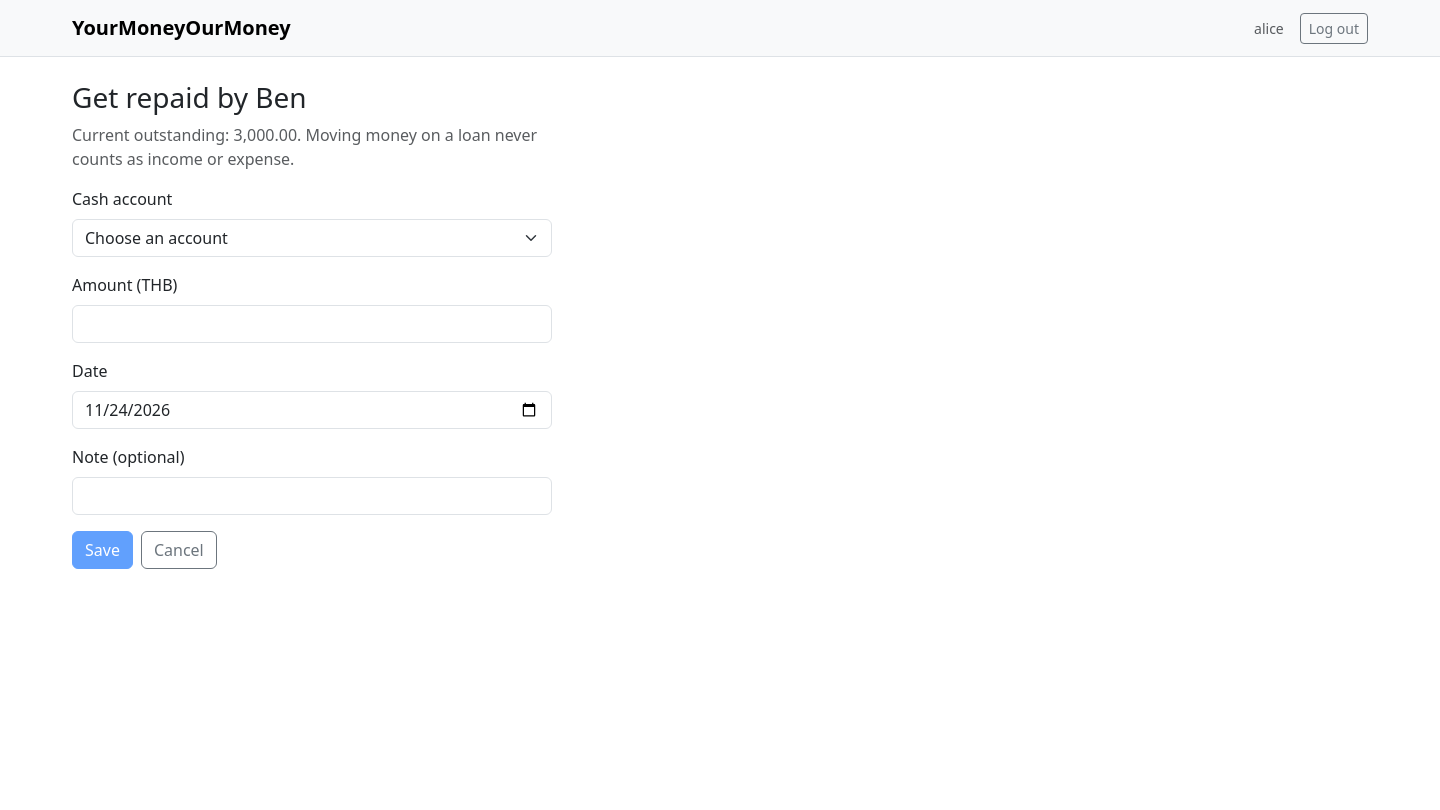
Test: LoanActionPage (T-DEBT-UI-02) › resets over-repayment confirmation if amount changes and preserves form values on server error
Expected: the heading "Get repaid by Ben" is shown, [72,78,306,116]
Step 1. Select "Bank · 38,500.00" in the dropdown labelled "Cash account" → (312,238), box [72,219,552,257]
Step 2. Type "3,500" into the field labelled "Amount (THB)" → (312,324), box [72,305,552,343]
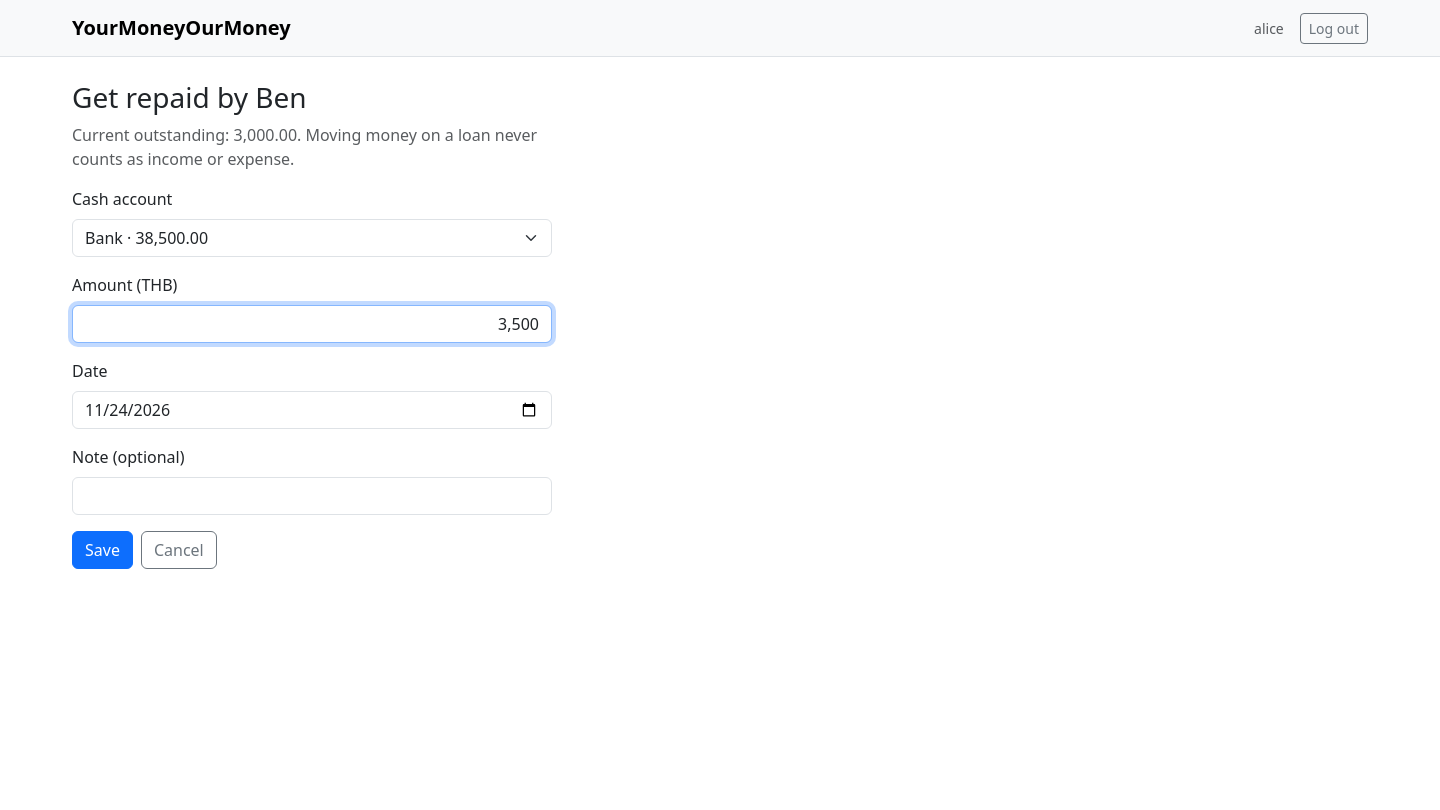
Step 3. Type "Partial" into the field labelled "Note (optional)" → (312,496), box [72,477,552,515]
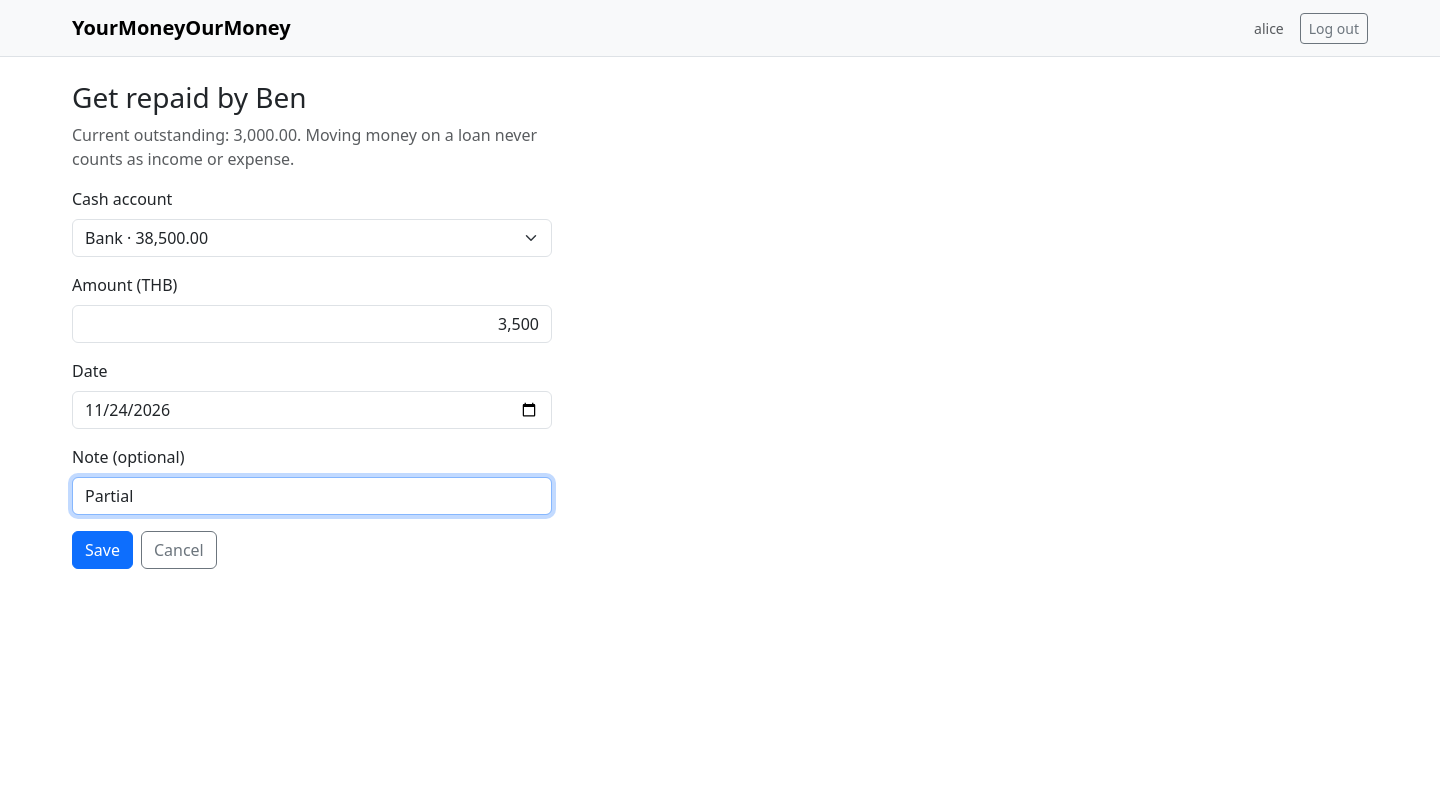
Step 4. Click the button "Save" → (102,550), box [72,531,133,569]
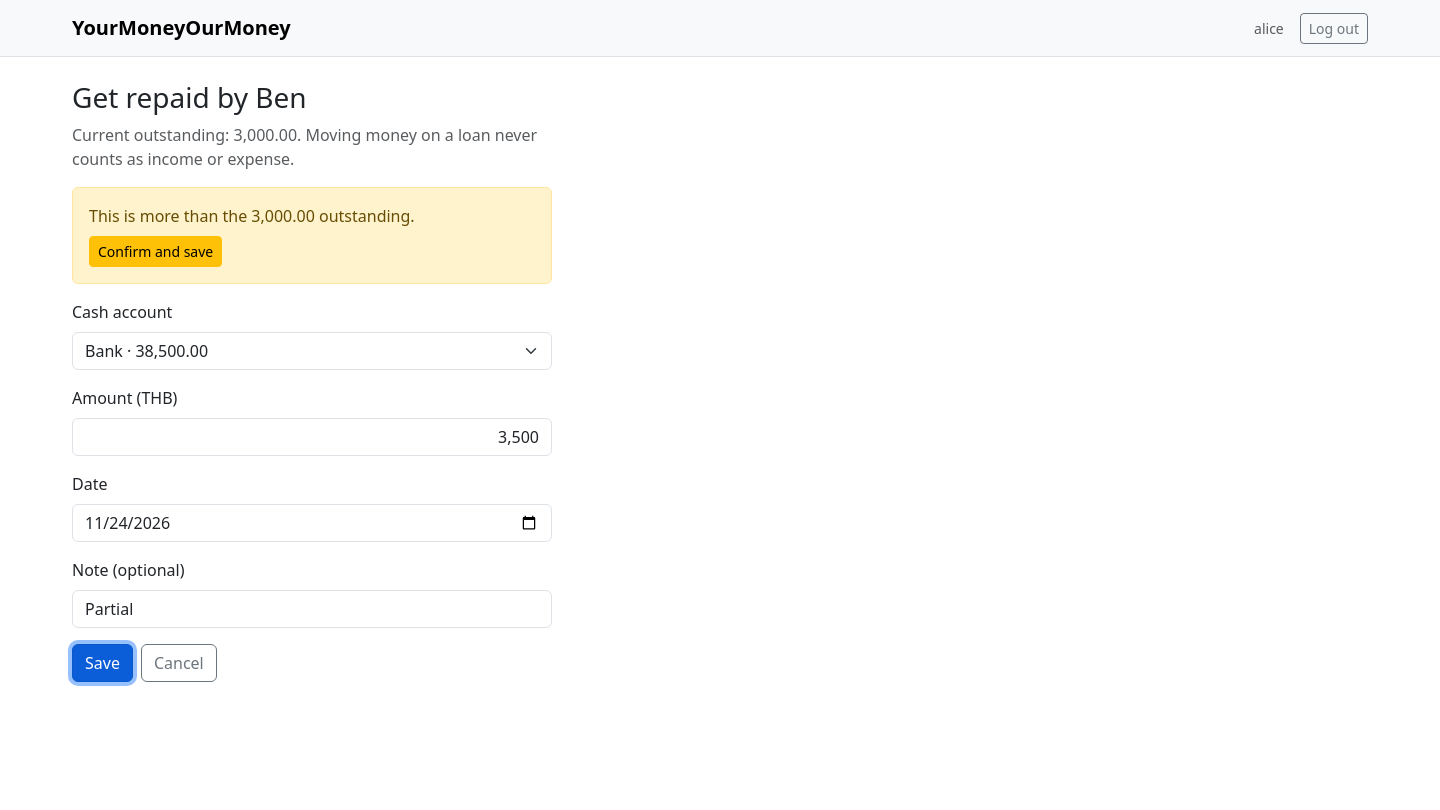
Now the message shows "This is more than the 3,000.00 outstanding.", box [72,187,552,284]
Step 5. Clear the field labelled "Amount (THB)" → (312,437), box [72,418,552,456]
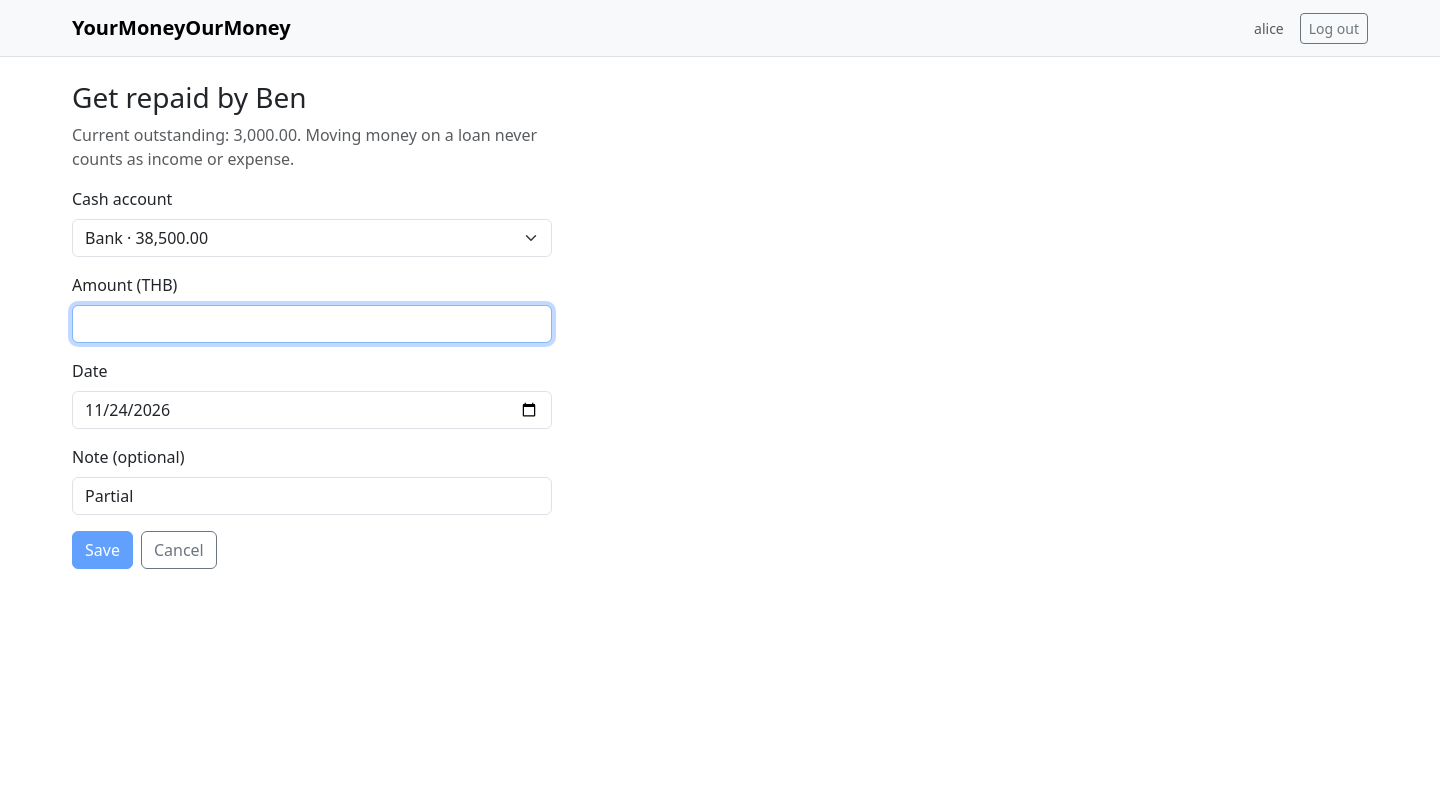
Step 6. Type "2,000" into the field labelled "Amount (THB)" → (312,324), box [72,305,552,343]
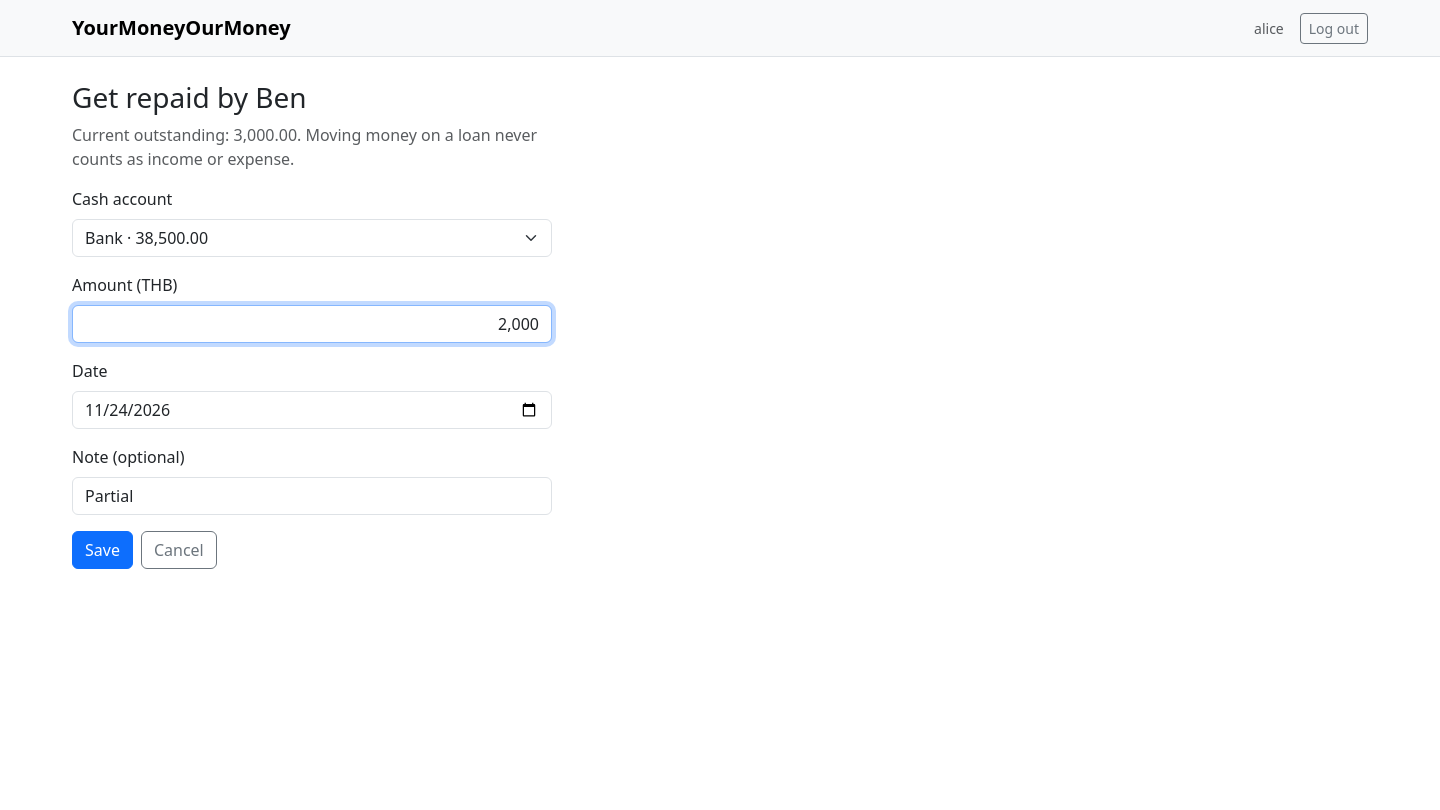
Expected: the button "Confirm and save" is not shown
Step 7. Click the button "Save" → (102,550), box [72,531,133,569]
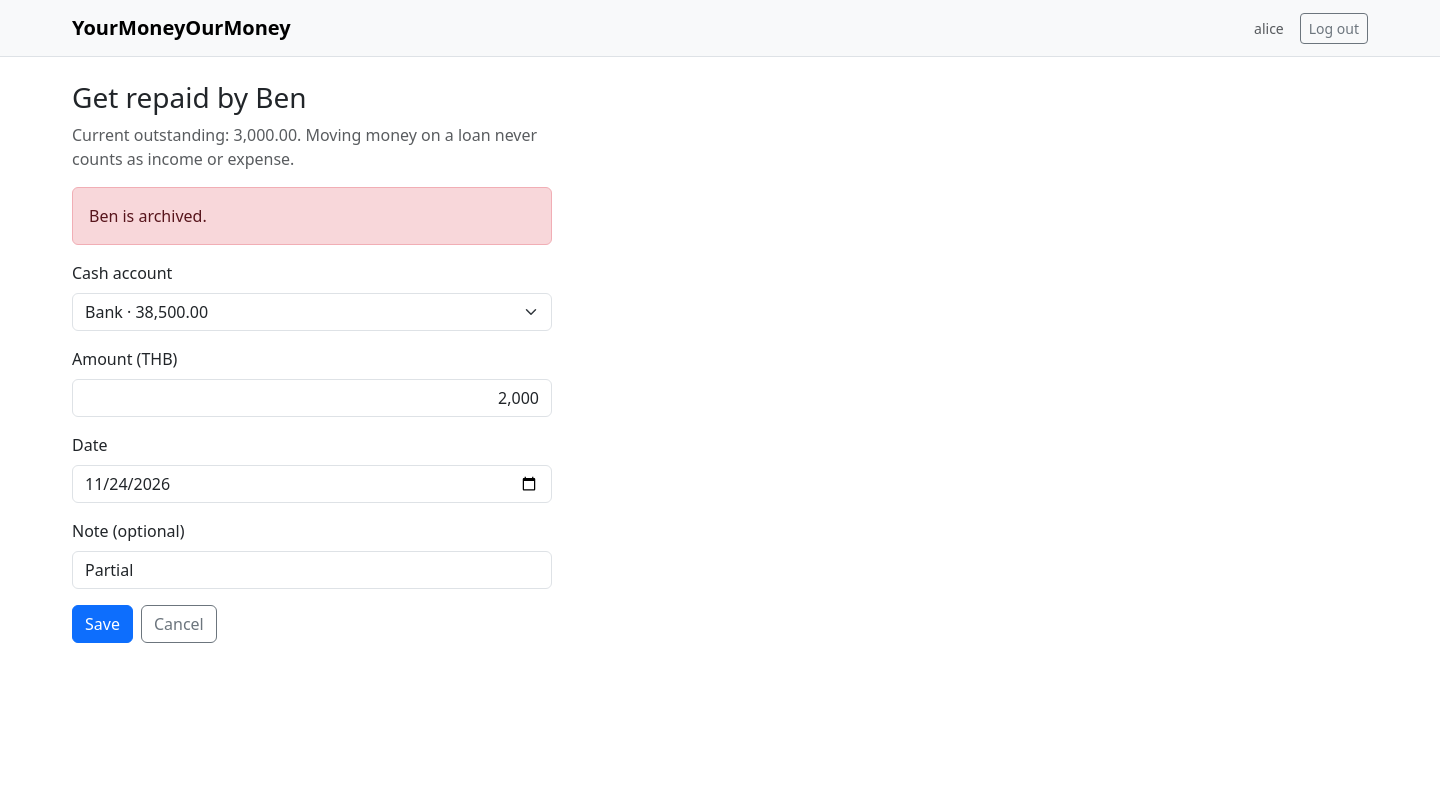
Now the message reads "Ben is archived.", box [89,205,207,227]
